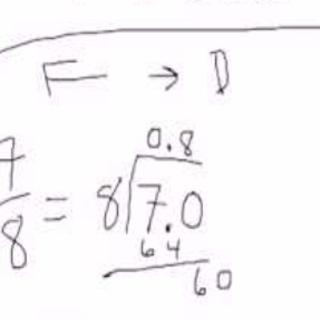.: (163, 220, 173, 234), (166, 141, 173, 153)
0: (180, 191, 205, 229), (145, 124, 162, 151), (215, 268, 233, 291)
4: (165, 238, 182, 260)
6: (192, 265, 208, 296), (138, 236, 155, 258)
7: (136, 180, 163, 233)
8: (1, 213, 29, 271), (94, 177, 122, 231), (178, 128, 196, 157)
